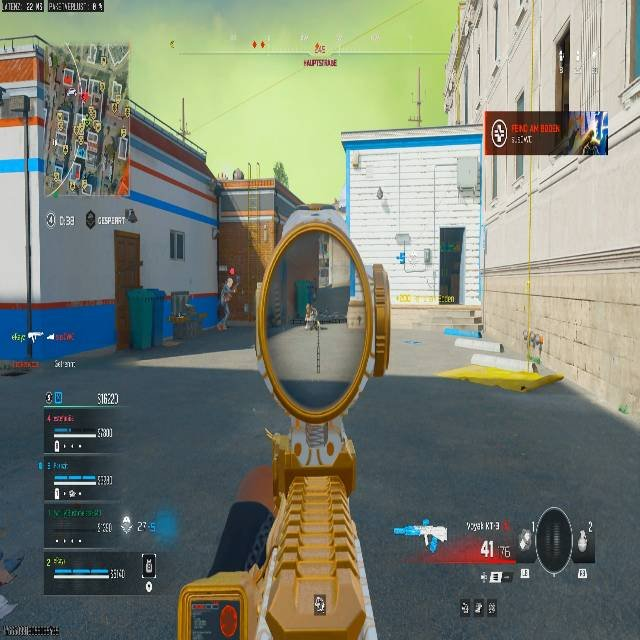player: (216, 274, 239, 330), (304, 301, 320, 332)
